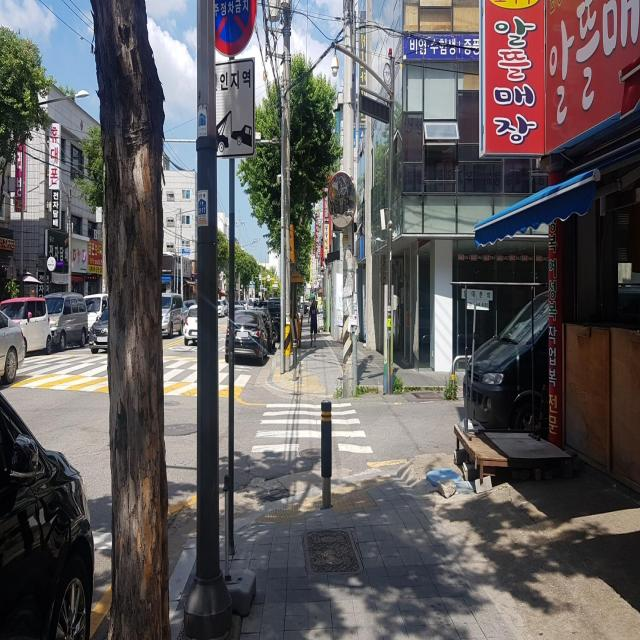횡단보도: (1, 345, 263, 391), (250, 402, 374, 455)
